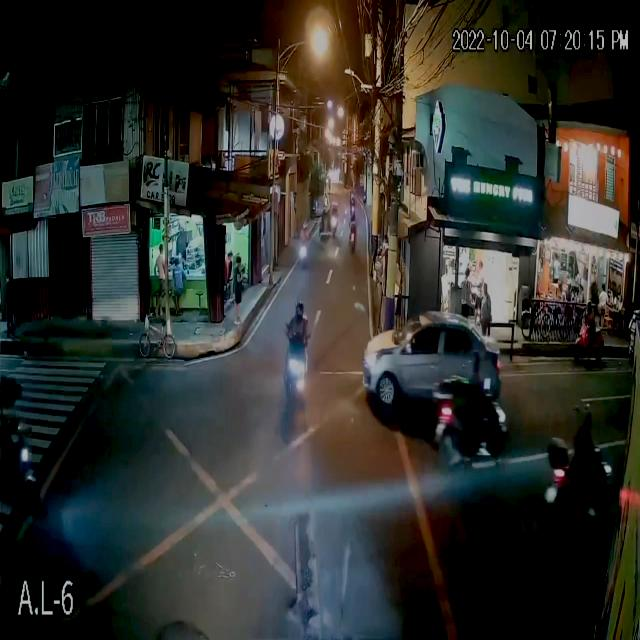Full-Faced: (574, 393, 594, 431), (467, 346, 481, 381), (293, 294, 306, 322)
